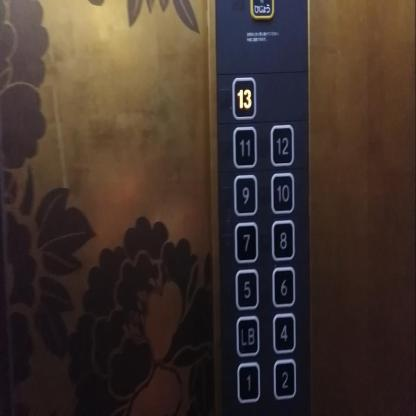1: (236, 360, 260, 404)
10: (270, 172, 295, 214)
11: (232, 126, 257, 169)
12: (269, 123, 295, 167)
13: (231, 75, 257, 122)
2: (272, 357, 297, 401)
4: (272, 311, 296, 355)
5: (235, 266, 259, 312)
6: (271, 264, 295, 308)
7: (233, 220, 259, 264)
8: (271, 219, 296, 263)
9: (233, 174, 258, 218)
LB: (235, 313, 259, 358)
